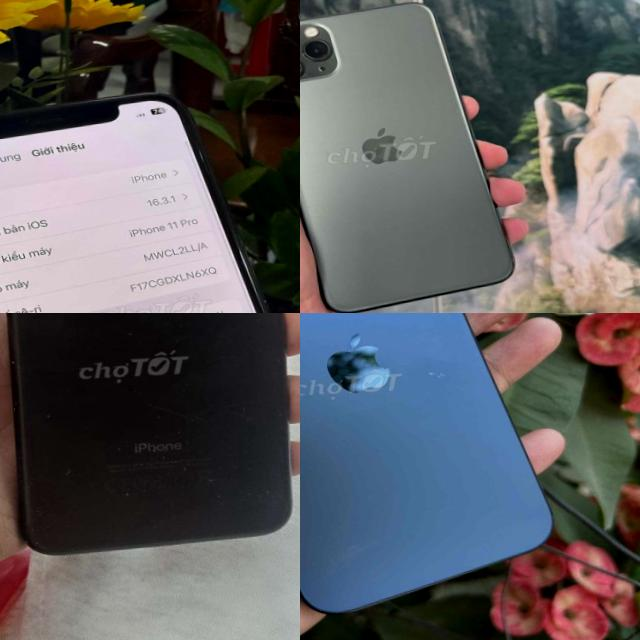scratch: (136, 388, 288, 427), (175, 458, 282, 512), (106, 428, 188, 464), (427, 366, 448, 382), (113, 486, 133, 500), (61, 458, 71, 480), (272, 347, 286, 362), (124, 322, 140, 335), (168, 334, 186, 345), (38, 412, 52, 423), (252, 317, 264, 326), (8, 358, 16, 367)
